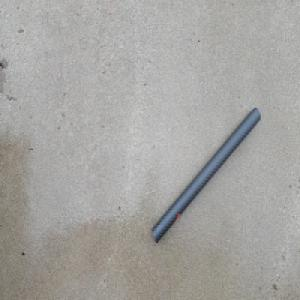LuggagePart: (151, 104, 261, 244)
